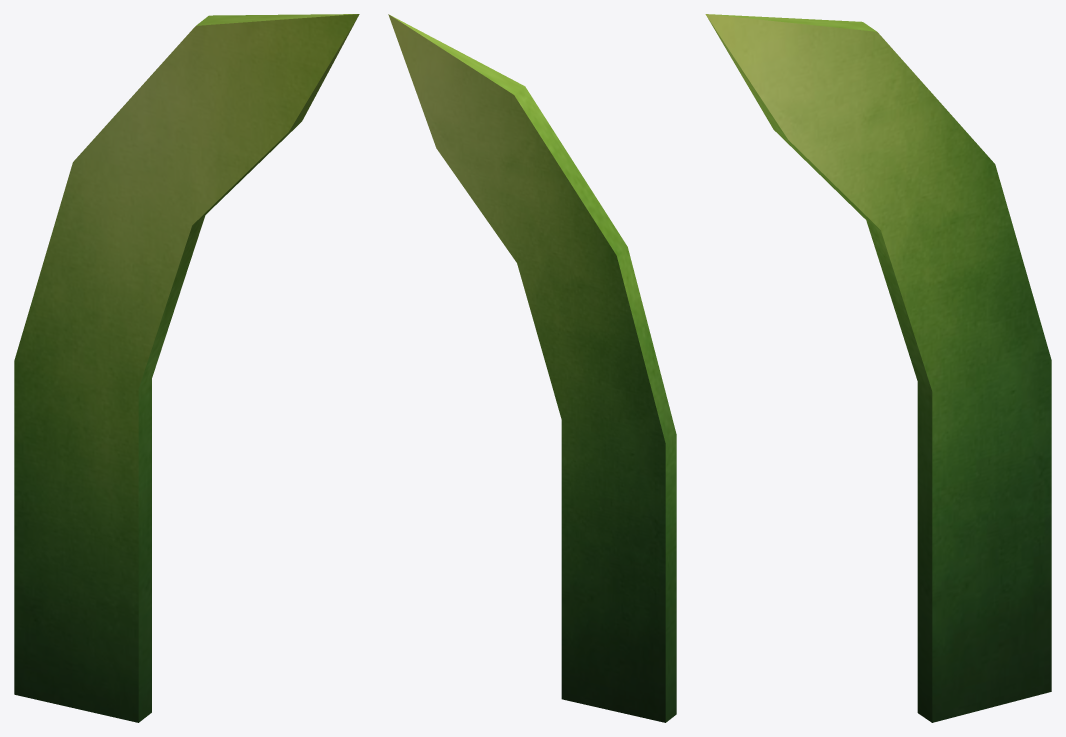
Rendered from Leaf_v3.fbx.
The picture shows the model from 3 angles, left to right: view 1: azimuth 30°, elevation 25°; view 2: azimuth 210°, elevation 25°; view 3: azimuth 270°, elevation 25°; orthographic projection. The views are drawn at different scales.
Parts seen in each view (by area): view 1: Leaf_v3; view 2: Leaf_v3; view 3: Leaf_v3.
Boxes of the visible parts, x1,y1,x2,y2 form: Leaf_v3: (14,14,359,722); Leaf_v3: (388,14,676,722); Leaf_v3: (705,14,1051,722).
Bounding box in the file's own units: 0.1212 × 0.4929 × 0.205.
